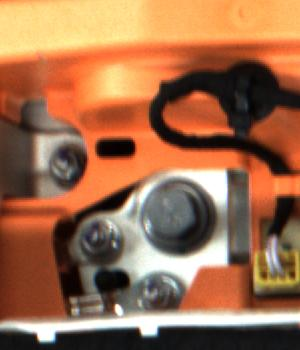nut_b: (140, 176, 214, 260)
screw_s: (136, 271, 176, 311), (78, 218, 117, 258), (48, 142, 79, 185)
